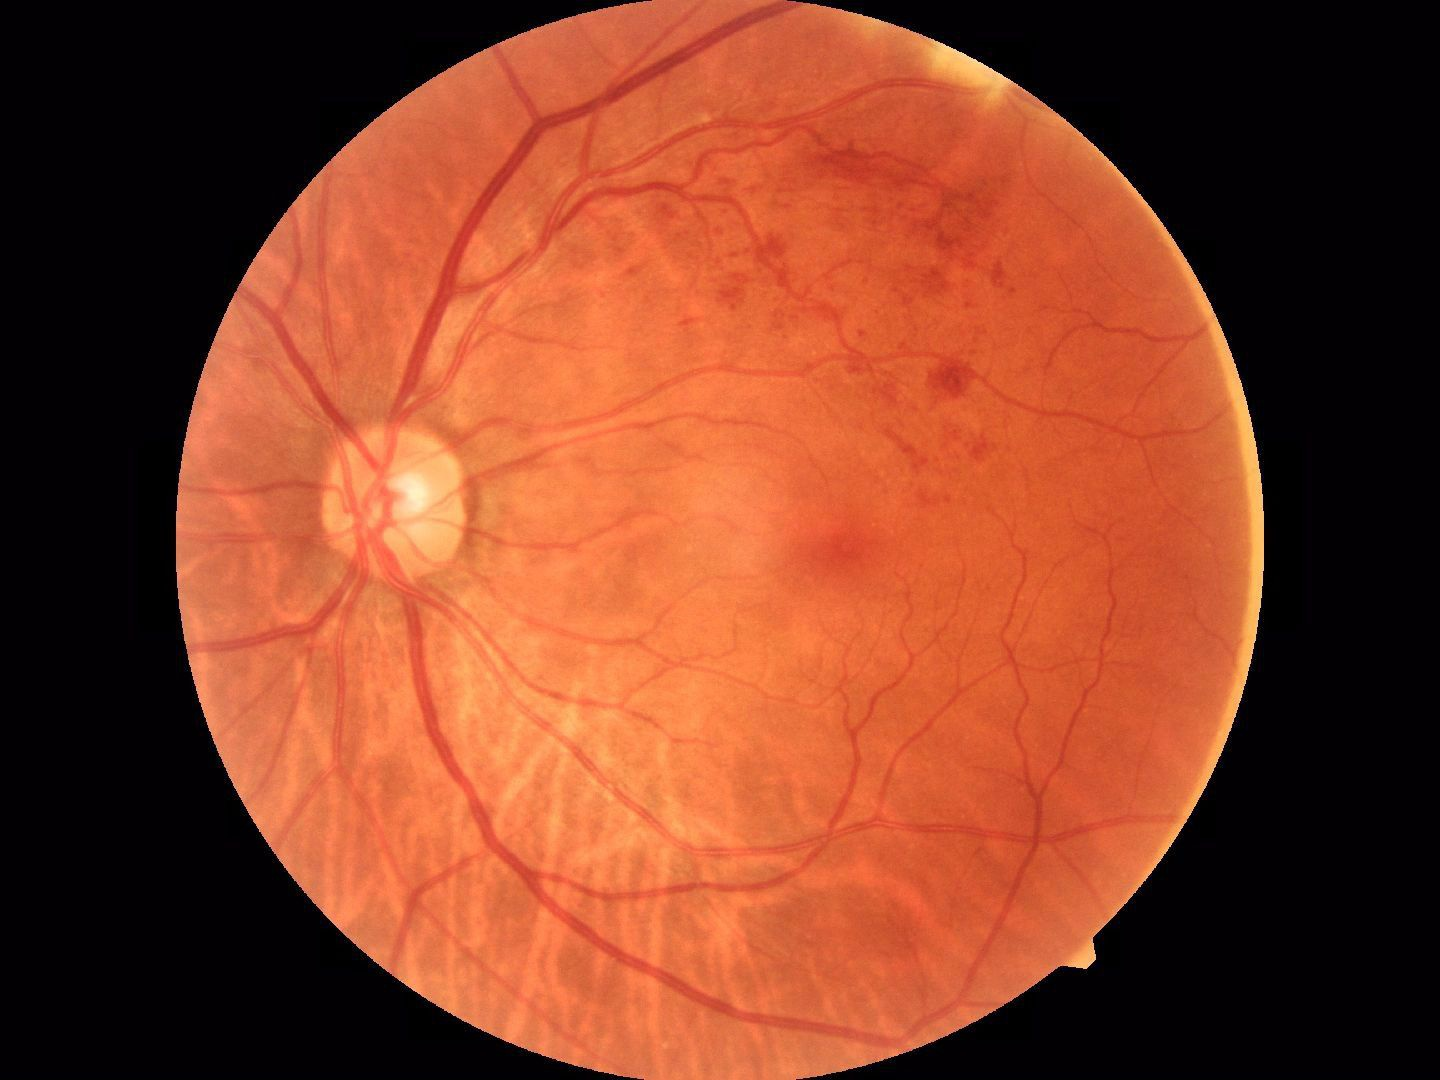Arterioles: (848, 602, 1130, 794)
Microaneurysms: (850, 130, 1018, 251), (662, 203, 808, 310), (920, 344, 981, 420)
Optic-Disc: (323, 411, 480, 590)
Venules: (412, 98, 527, 329), (432, 710, 551, 933)
